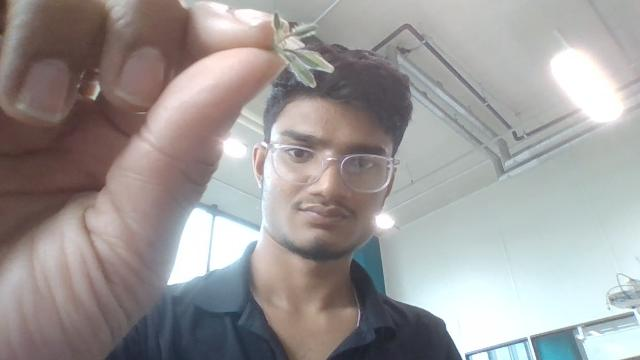Flower Bud: (280, 55, 316, 90), (280, 53, 314, 86), (285, 48, 332, 70), (271, 13, 291, 47), (291, 21, 324, 36), (290, 23, 318, 39), (272, 11, 282, 32)
